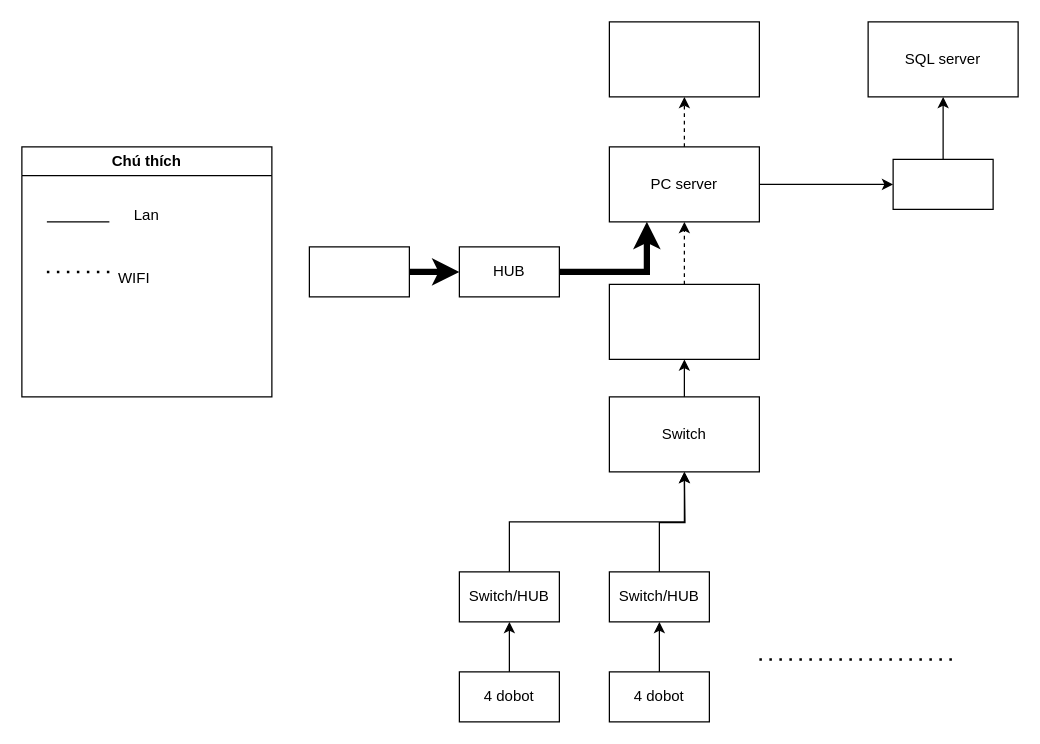
This 1040x744 diagram has some shape labels left out. Each missing label, with the centre of its shape:
"3 dobot" goes at (358,271).
"Interface" goes at (683,59).
"Router( Archer AX53)" goes at (683,321).
"Switch cty" goes at (942,183).
